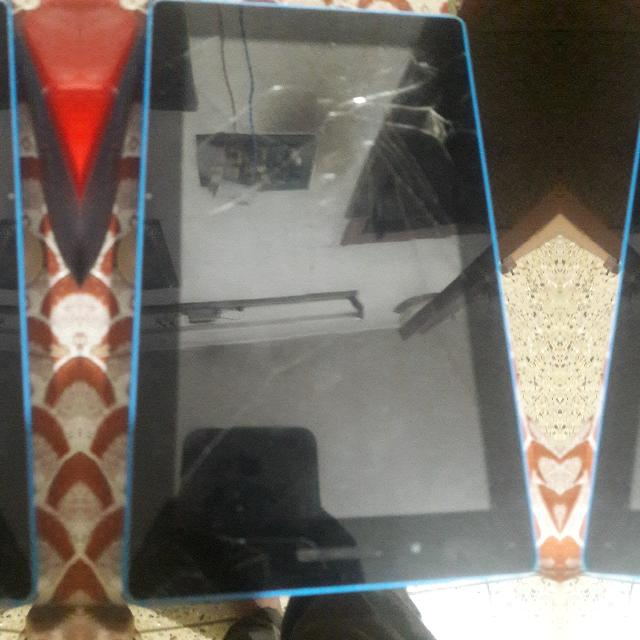phone_screen: (145, 1, 520, 534), (600, 0, 640, 533), (0, 0, 15, 533)
